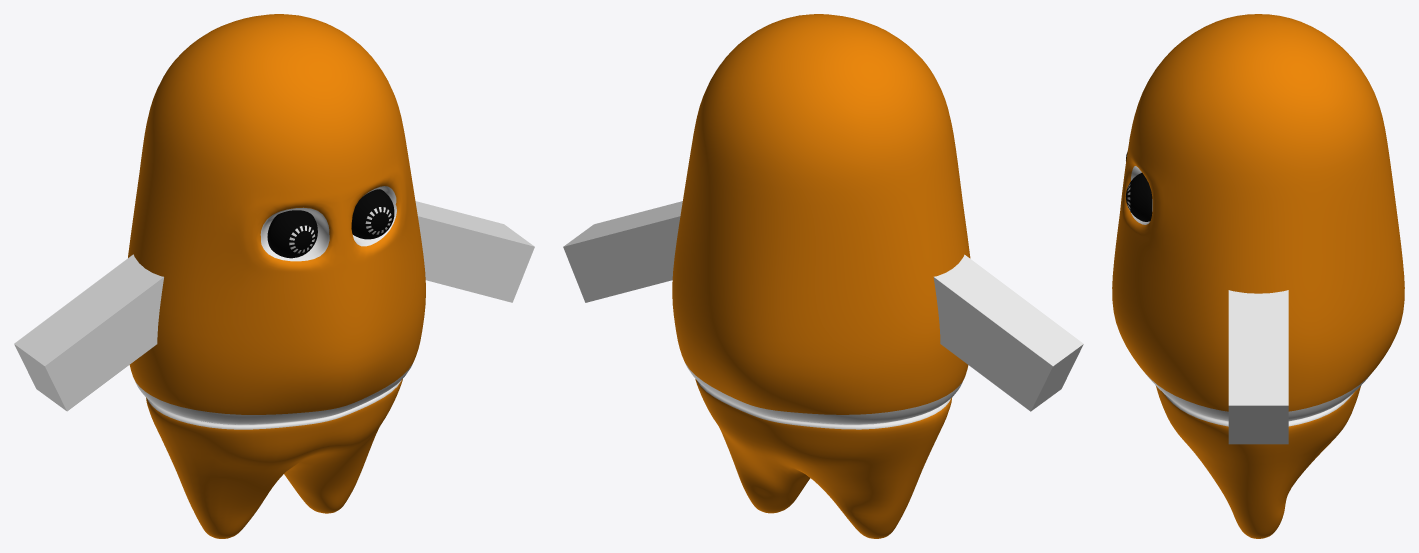
The model's file is enchy base_anim .fbx.
3 renders of one model, left to right at view 1: azimuth 30°, elevation 25°; view 2: azimuth 150°, elevation 25°; view 3: azimuth 270°, elevation 25°, orthographic. The views are drawn at different scales.
Visible parts, largest first — view 1: Roundcube.001, Cube, Sphere.003; view 2: Roundcube.001, Cube; view 3: Roundcube.001, Cube, Sphere.003.
Part boxes in pixels (box(x1,y1,x2,y2)): Roundcube.001: box(128, 14, 425, 538); Cube: box(14, 201, 534, 411); Sphere.003: box(267, 189, 394, 258); Roundcube.001: box(672, 14, 970, 538); Cube: box(563, 201, 1083, 411); Roundcube.001: box(1112, 14, 1404, 538); Cube: box(1228, 290, 1288, 444); Sphere.003: box(1126, 152, 1152, 221).
Size of the model in its own units: 417 by 404 by 222.
